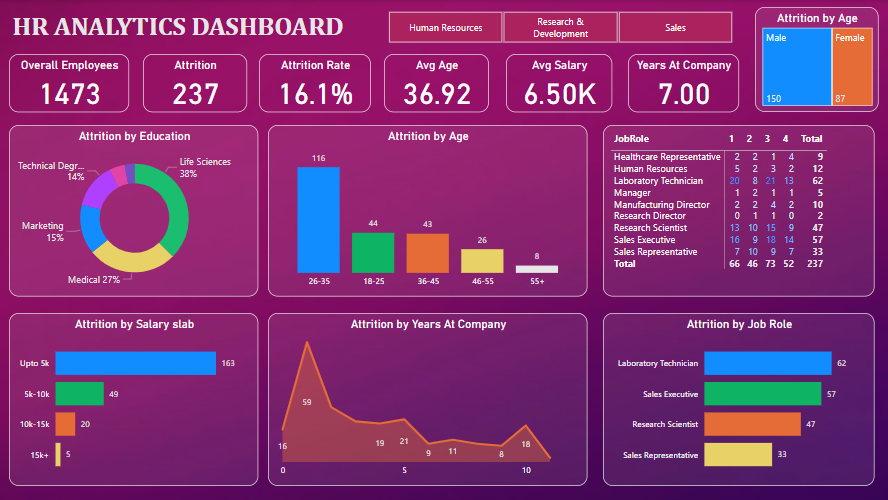

What the dashboard file says about the page in this screenshot:
{"tool":"powerbi","page":{"name":"Page 1","canvas":[1280,720],"ordinal":0},"visuals":[{"type":"card","title":"Overall Employees","fields":{"Values":["CountNonNull(HR_Analytics.EmpID)"]},"box":[13.4,77.3,173,84],"z":0},{"type":"card","title":"Attrition","fields":{"Values":["Sum(HR_Analytics.AttritionCount)"]},"box":[206.6,77.3,149.5,84],"z":1000},{"type":"card","title":"Attrition Rate","fields":{"Values":["HR_Analytics.AttritionRate"]},"box":[372.9,77.3,161.3,84],"z":2000},{"type":"card","title":"Avg Age","fields":{"Values":["Avg(HR_Analytics.Age)"]},"box":[552.7,77.3,151.2,84],"z":3000},{"type":"card","title":"Years At Company","fields":{"Values":["Avg(HR_Analytics.YearsAtCompany)"]},"box":[903.7,77.3,159.6,84],"z":4000},{"type":"card","title":"Avg Salary","fields":{"Values":["Avg(HR_Analytics.MonthlyIncome)"]},"box":[729,77.3,152.9,84],"z":5000},{"type":"donutChart","title":"Attrition by Education","fields":{"Category":["HR_Analytics.EducationField"],"Y":["Sum(HR_Analytics.AttritionCount)"]},"box":[13.4,179.7,359.5,246.9],"z":6000},{"type":"clusteredColumnChart","title":"Attrition by Age","fields":{"Category":["HR_Analytics.AgeGroup"],"Y":["Sum(HR_Analytics.AttritionCount)"]},"box":[386.4,179.7,460.3,246.9],"z":7000},{"type":"pivotTable","fields":{"Rows":["HR_Analytics.JobRole"],"Columns":["HR_Analytics.JobSatisfaction"],"Values":["Sum(HR_Analytics.AttritionCount)"]},"box":[868.5,179.7,391.4,246.9],"z":8000},{"type":"barChart","title":"Attrition by Salary slab","fields":{"Category":["HR_Analytics.SalarySlab"],"Y":["Sum(HR_Analytics.AttritionCount)"]},"box":[13.4,450.2,359.5,248.6],"z":9000},{"type":"barChart","title":"Attrition by Job Role","fields":{"Category":["HR_Analytics.JobRole"],"Y":["Sum(HR_Analytics.AttritionCount)"]},"box":[868.5,450.2,391.4,248.6],"z":10000},{"type":"stackedAreaChart","title":"Attrition by Years At Company","fields":{"Category":["HR_Analytics.YearsAtCompany"],"Y":["Sum(HR_Analytics.AttritionCount)"]},"box":[386.4,450.2,460.3,248.6],"z":11000},{"type":"treemap","title":"Attrition by Age","fields":{"Group":["HR_Analytics.Gender"],"Values":["Sum(HR_Analytics.AttritionCount)"]},"box":[1086.8,10.1,178.1,151.2],"z":12000},{"type":"slicer","fields":{"Values":["HR_Analytics.Department"]},"box":[534.2,10.1,544.3,57.1],"z":13000},{"type":"textbox","box":[13.4,10.1,507.3,57.1],"z":13001}]}

Visuals, with their boxes in screenshot pixels (x1, y1, x2, y2), scaled from the page's 1280x720 canvas onto the 888x500 screenshot:
"Overall Employees" card: (x1=9, y1=54, x2=129, y2=112)
"Attrition" card: (x1=143, y1=54, x2=247, y2=112)
"Attrition Rate" card: (x1=259, y1=54, x2=371, y2=112)
"Avg Age" card: (x1=383, y1=54, x2=488, y2=112)
"Years At Company" card: (x1=627, y1=54, x2=738, y2=112)
"Avg Salary" card: (x1=506, y1=54, x2=612, y2=112)
"Attrition by Education" donutChart: (x1=9, y1=125, x2=259, y2=296)
"Attrition by Age" clusteredColumnChart: (x1=268, y1=125, x2=587, y2=296)
pivotTable - HR_Analytics.JobRole x HR_Analytics.JobSatisfaction: (x1=603, y1=125, x2=874, y2=296)
"Attrition by Salary slab" barChart: (x1=9, y1=313, x2=259, y2=485)
"Attrition by Job Role" barChart: (x1=603, y1=313, x2=874, y2=485)
"Attrition by Years At Company" stackedAreaChart: (x1=268, y1=313, x2=587, y2=485)
"Attrition by Age" treemap: (x1=754, y1=7, x2=878, y2=112)
slicer - HR_Analytics.Department: (x1=371, y1=7, x2=748, y2=47)
textbox: (x1=9, y1=7, x2=361, y2=47)
